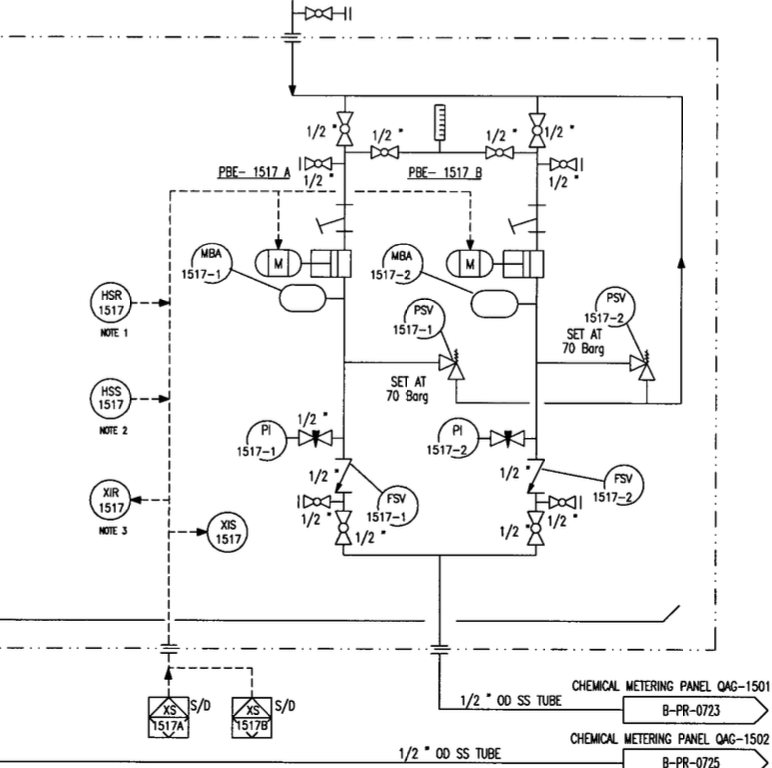Instrument: (88, 374, 134, 423), (87, 473, 132, 523), (87, 277, 133, 324)
Instrument-offset: (359, 475, 422, 529), (422, 411, 481, 464), (587, 459, 648, 509), (388, 293, 448, 343), (232, 417, 291, 466), (369, 241, 432, 285), (179, 239, 236, 286), (583, 284, 637, 329)
Instrument-square: (142, 691, 192, 742), (228, 692, 275, 742)
